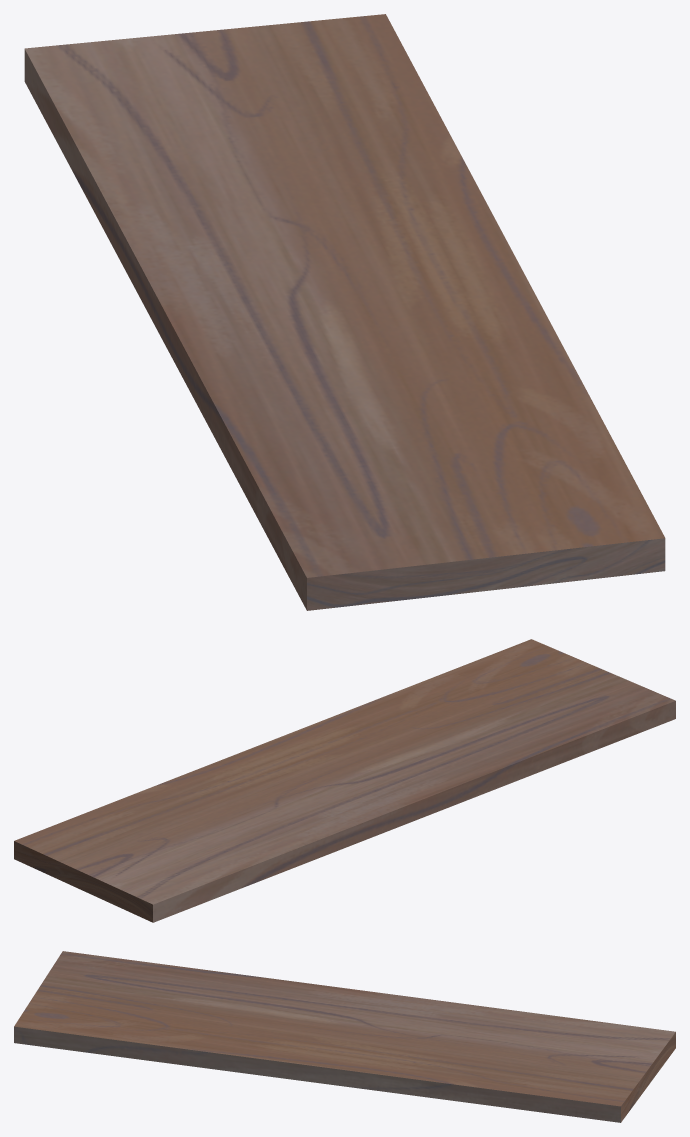
Rendered from plank_011.fbx.
3 renders of one model, top to bottom at view 1: azimuth 30°, elevation 25°; view 2: azimuth 150°, elevation 25°; view 3: azimuth 270°, elevation 25°, orthographic. The views are drawn at different scales.
Visible parts, largest first — view 1: plank.011; view 2: plank.011; view 3: plank.011.
Part boxes in pixels (x1,y1,x2,y2): plank.011: (24, 14, 665, 610); plank.011: (14, 639, 675, 922); plank.011: (14, 951, 675, 1122).
Size of the model in its own units: 20.17 by 0.9957 by 36.32.
